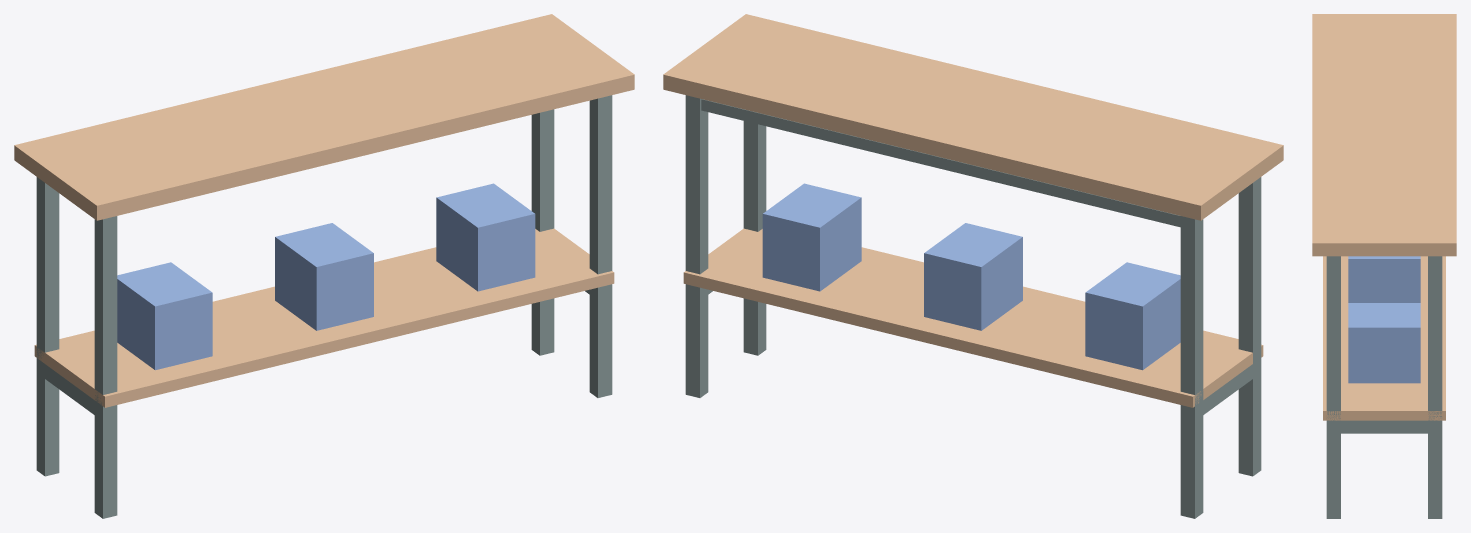
The model's file is consoleIndustrial.glb.
The picture shows the model from 3 angles, left to right: view 1: azimuth 30°, elevation 25°; view 2: azimuth 150°, elevation 25°; view 3: azimuth 270°, elevation 25°; orthographic projection. The views are drawn at different scales.
Parts seen in each view (by area): view 1: consoleIndustrial; view 2: consoleIndustrial; view 3: consoleIndustrial.
Part boxes in pixels (x1,y1,x2,y2): consoleIndustrial: [14, 14, 634, 518]; consoleIndustrial: [663, 14, 1283, 518]; consoleIndustrial: [1312, 14, 1456, 518].
Size of the model in its own units: 0.75 by 0.43 by 0.2.
